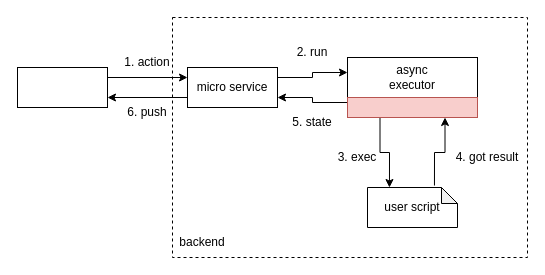
Image size: 545x275. Some labels were removed from this diagram. The box of each missing label's shape, as (x1, y1, x2, y2) in pixels:
context: (346, 96, 478, 118)
frontend: (16, 66, 108, 108)
